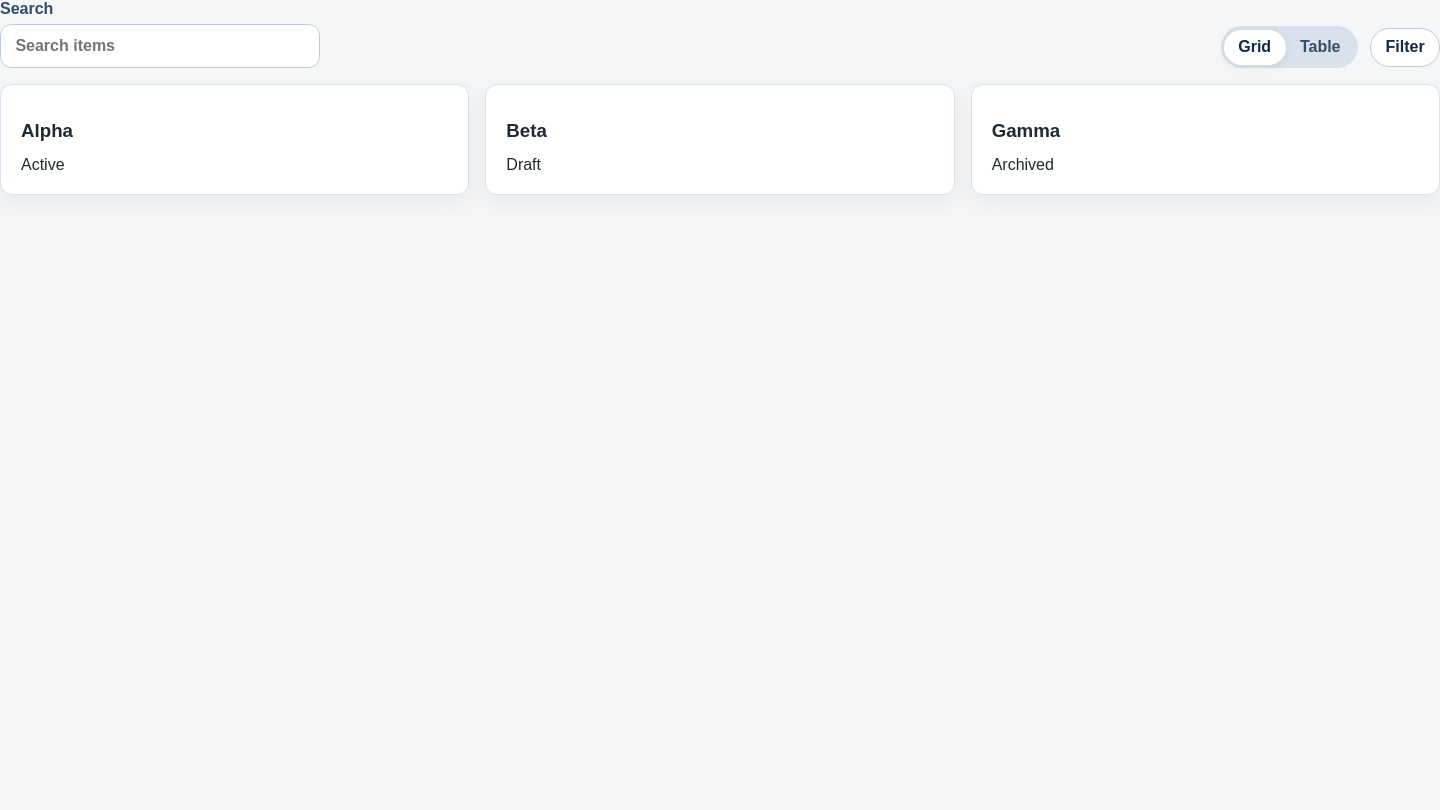
Scenario: DataViewComponent Phase 1 filtering › opens the filter modal without a zero count badge
Click the button with class "data-view__filter-button": click(1405, 47) [1370,28,1439,67]
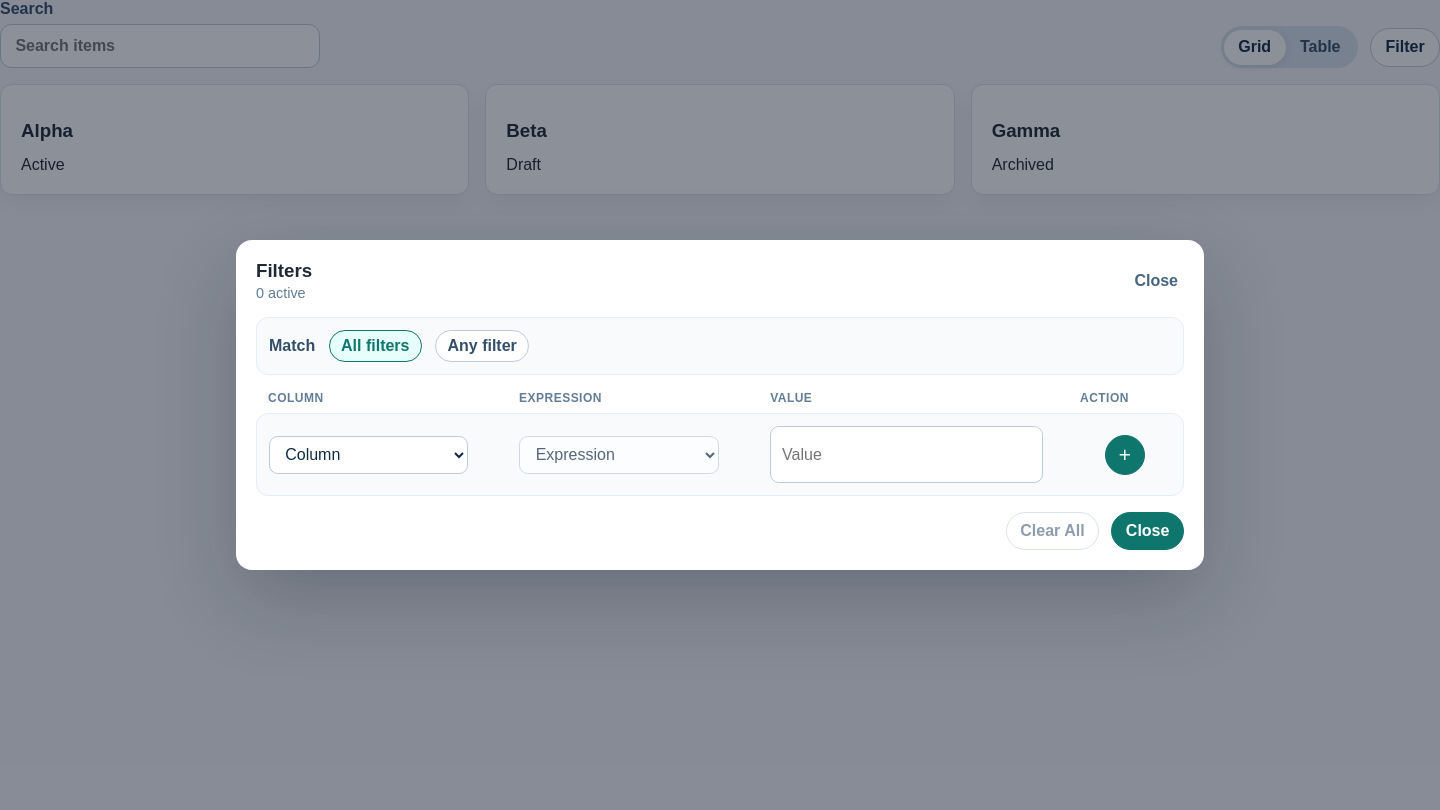
Expected: the dialog with class "data-view__modal--filters" is shown, [236,240,1204,570]
